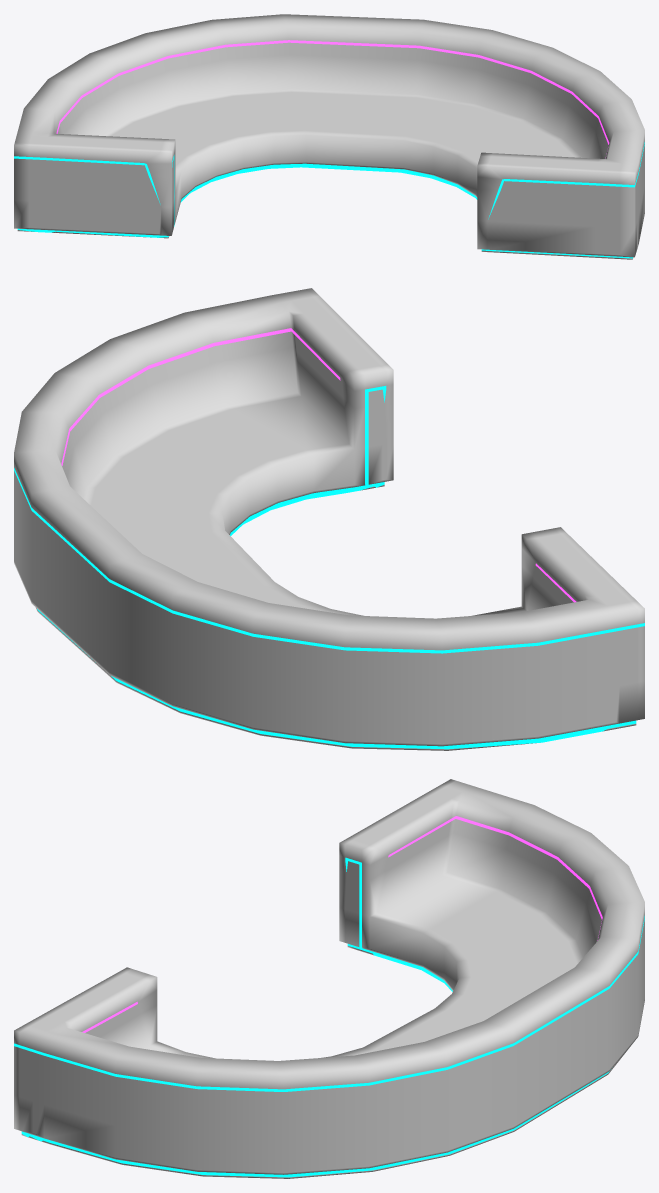
The model's file is round_cave_couch.glb.
3 renders of one model, top to bottom at view 1: azimuth 30°, elevation 25°; view 2: azimuth 150°, elevation 25°; view 3: azimuth 270°, elevation 25°, orthographic. The views are drawn at different scales.
Parts seen in each view (by area): view 1: caveCouchA; view 2: caveCouchA; view 3: caveCouchA.
Boxes of the visible parts, x1=… form: caveCouchA: x1=14, y1=14, x2=644, y2=259; caveCouchA: x1=14, y1=288, x2=644, y2=750; caveCouchA: x1=14, y1=779, x2=644, y2=1178.
Size of what is drawn, in the model's own units: 5.31 by 0.8681 by 4.76.
